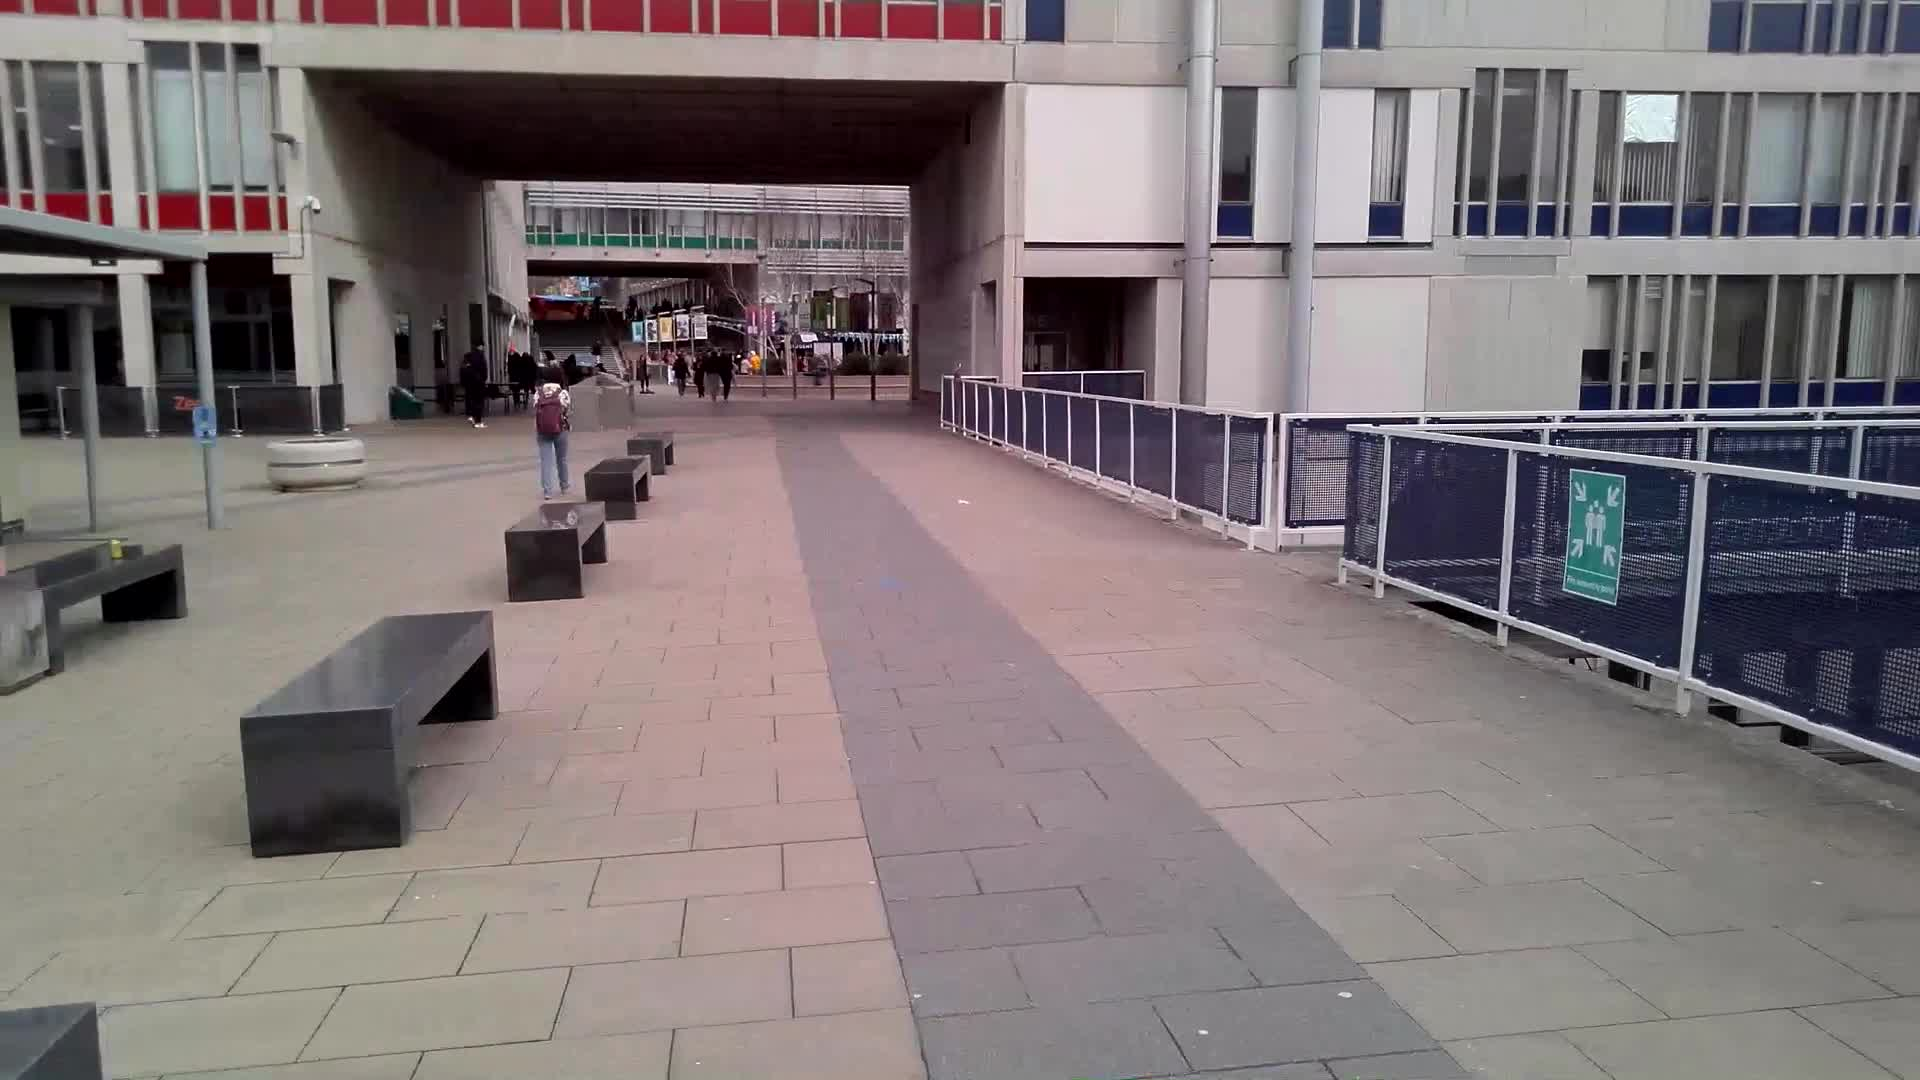Backpack: (537, 387, 572, 445)
Bench: (245, 611, 509, 846), (508, 503, 608, 605), (581, 457, 660, 525), (628, 431, 680, 471)
Person: (530, 365, 574, 502)
